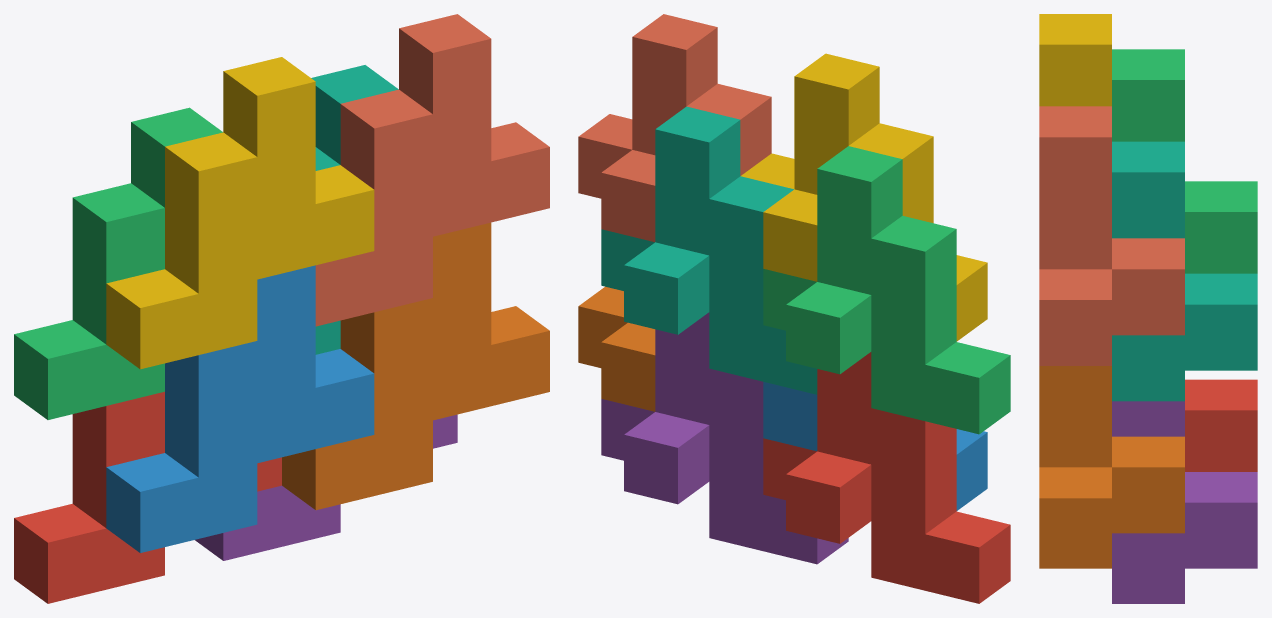
File: tiling.obj
The picture shows the model from 3 angles, left to right: view 1: azimuth 30°, elevation 25°; view 2: azimuth 150°, elevation 25°; view 3: azimuth 270°, elevation 25°; orthographic projection. The views are drawn at different scales.
Visible parts, largest first — view 1: copy_1_domain_4, copy_1_domain_8, copy_1_domain_2, copy_1_domain_6, copy_1_domain_3, copy_1_domain_1, copy_1_domain_5, copy_1_domain_7; view 2: copy_1_domain_3, copy_1_domain_1, copy_1_domain_7, copy_1_domain_5, copy_1_domain_4, copy_1_domain_8, copy_1_domain_6, copy_1_domain_2; view 3: copy_1_domain_8, copy_1_domain_6, copy_1_domain_7, copy_1_domain_5, copy_1_domain_3, copy_1_domain_1, copy_1_domain_4.
Boxes of the visible parts, x1,y1,x2,y2 form: copy_1_domain_4: [106, 57, 374, 369]; copy_1_domain_8: [315, 14, 549, 326]; copy_1_domain_2: [106, 265, 374, 552]; copy_1_domain_6: [282, 222, 549, 510]; copy_1_domain_3: [14, 107, 222, 419]; copy_1_domain_1: [14, 391, 281, 603]; copy_1_domain_5: [195, 414, 457, 560]; copy_1_domain_7: [311, 65, 398, 354]; copy_1_domain_3: [763, 146, 1010, 434]; copy_1_domain_1: [763, 352, 1010, 603]; copy_1_domain_7: [601, 106, 817, 394]; copy_1_domain_5: [601, 312, 848, 564]; copy_1_domain_4: [741, 53, 987, 341]; copy_1_domain_8: [578, 14, 771, 242]; copy_1_domain_6: [578, 286, 655, 411]; copy_1_domain_2: [763, 382, 987, 510]; copy_1_domain_8: [1039, 106, 1184, 365]; copy_1_domain_6: [1039, 366, 1184, 568]; copy_1_domain_7: [1112, 141, 1257, 401]; copy_1_domain_5: [1112, 401, 1257, 603]; copy_1_domain_3: [1112, 49, 1257, 273]; copy_1_domain_1: [1185, 379, 1257, 471]; copy_1_domain_4: [1039, 14, 1111, 106].
Size of the model in its own units: 8 by 8 by 3.
